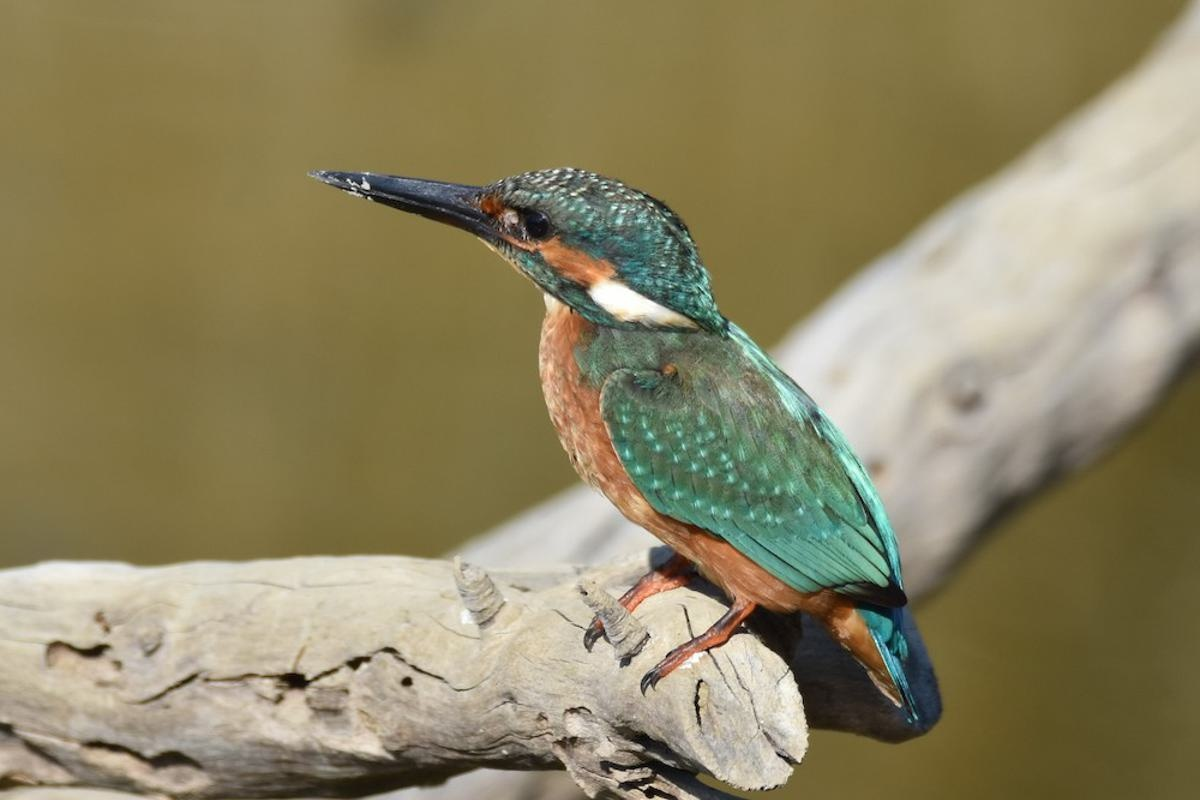kingfisher: (298, 157, 946, 729)
